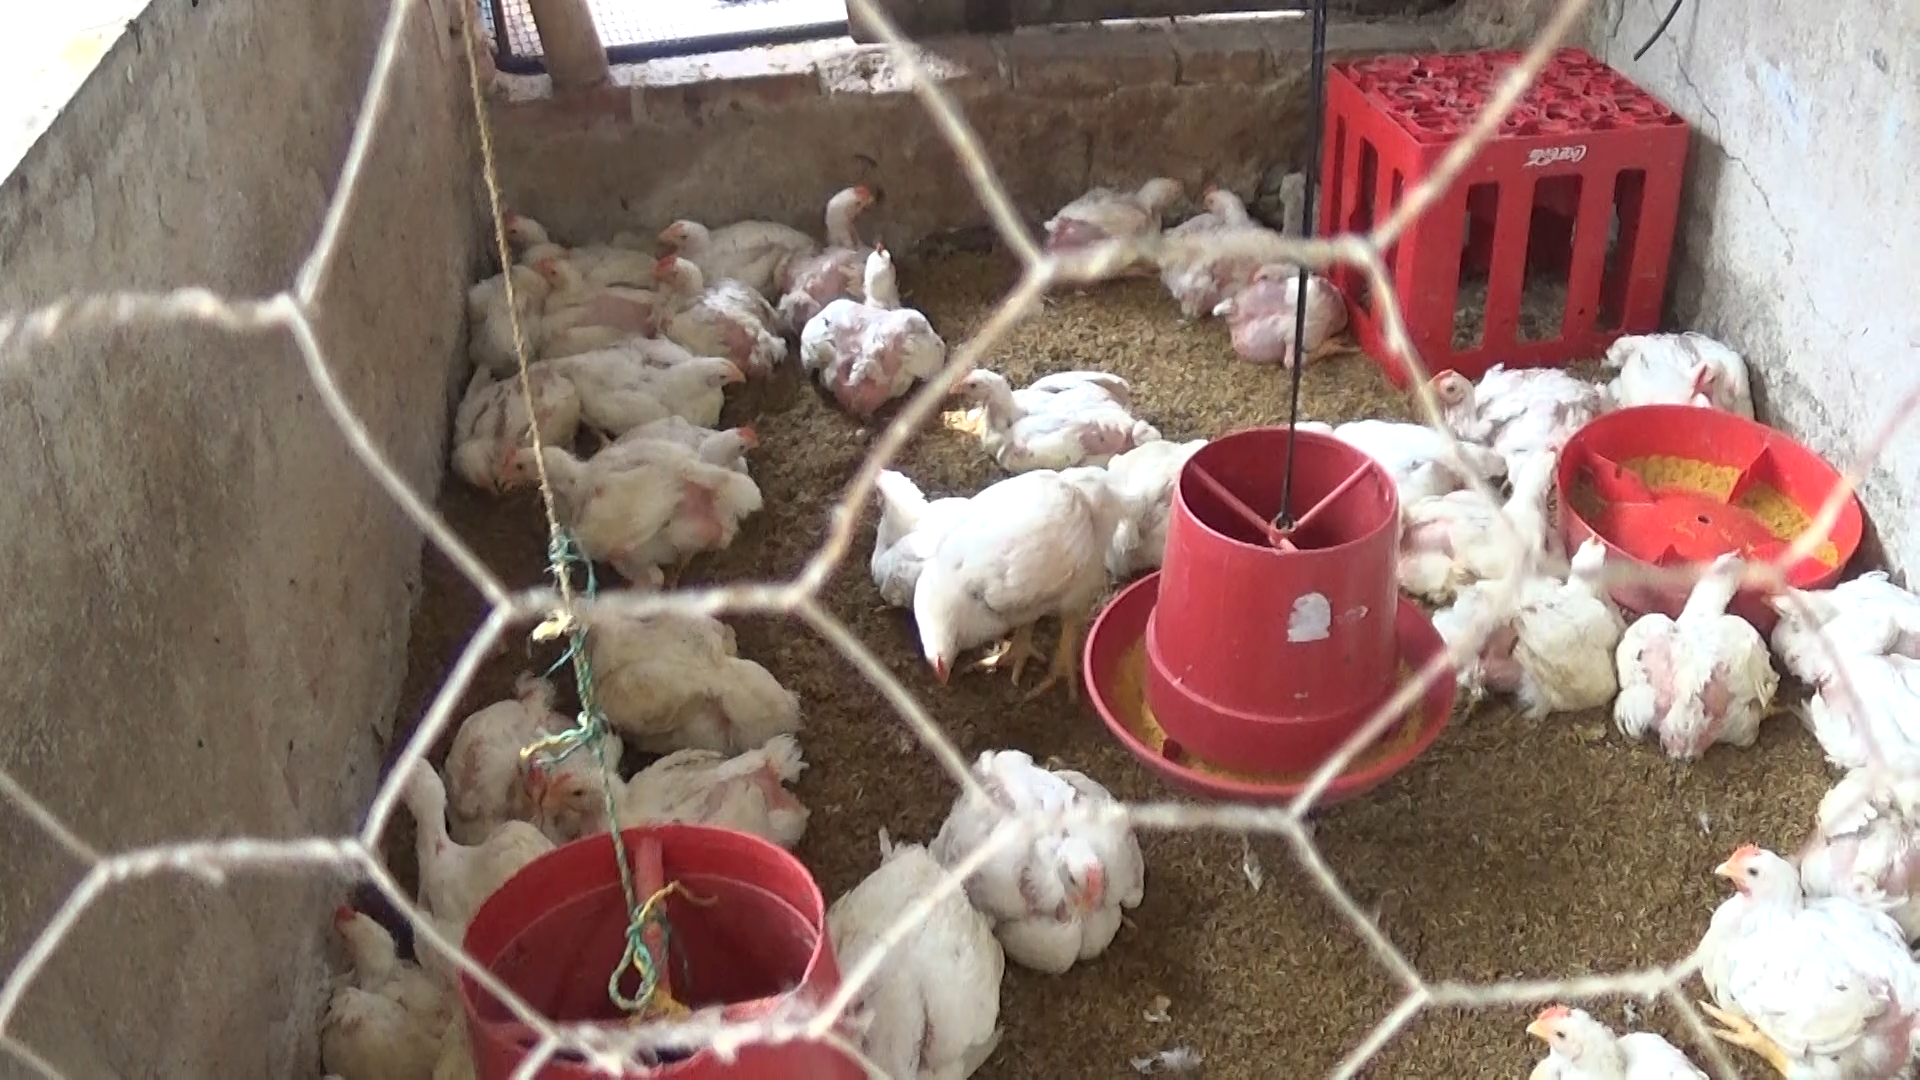Pollos: (1683, 818, 1916, 1058), (905, 454, 1120, 702), (940, 737, 1162, 957), (822, 818, 1004, 1069), (498, 429, 760, 588), (533, 728, 806, 862), (1440, 531, 1615, 705), (1635, 545, 1778, 757), (582, 599, 796, 738), (311, 889, 454, 1073), (796, 229, 931, 404), (454, 676, 603, 825), (401, 760, 539, 902), (1600, 311, 1774, 422), (1520, 984, 1714, 1080), (1031, 169, 1187, 286), (1418, 359, 1588, 462), (965, 359, 1160, 444), (560, 342, 742, 431), (650, 251, 786, 367), (862, 444, 971, 589), (454, 352, 580, 472), (793, 179, 897, 311), (1160, 179, 1305, 272), (502, 208, 662, 289), (533, 251, 682, 328), (1228, 277, 1341, 368), (655, 214, 802, 273), (675, 404, 764, 452)
